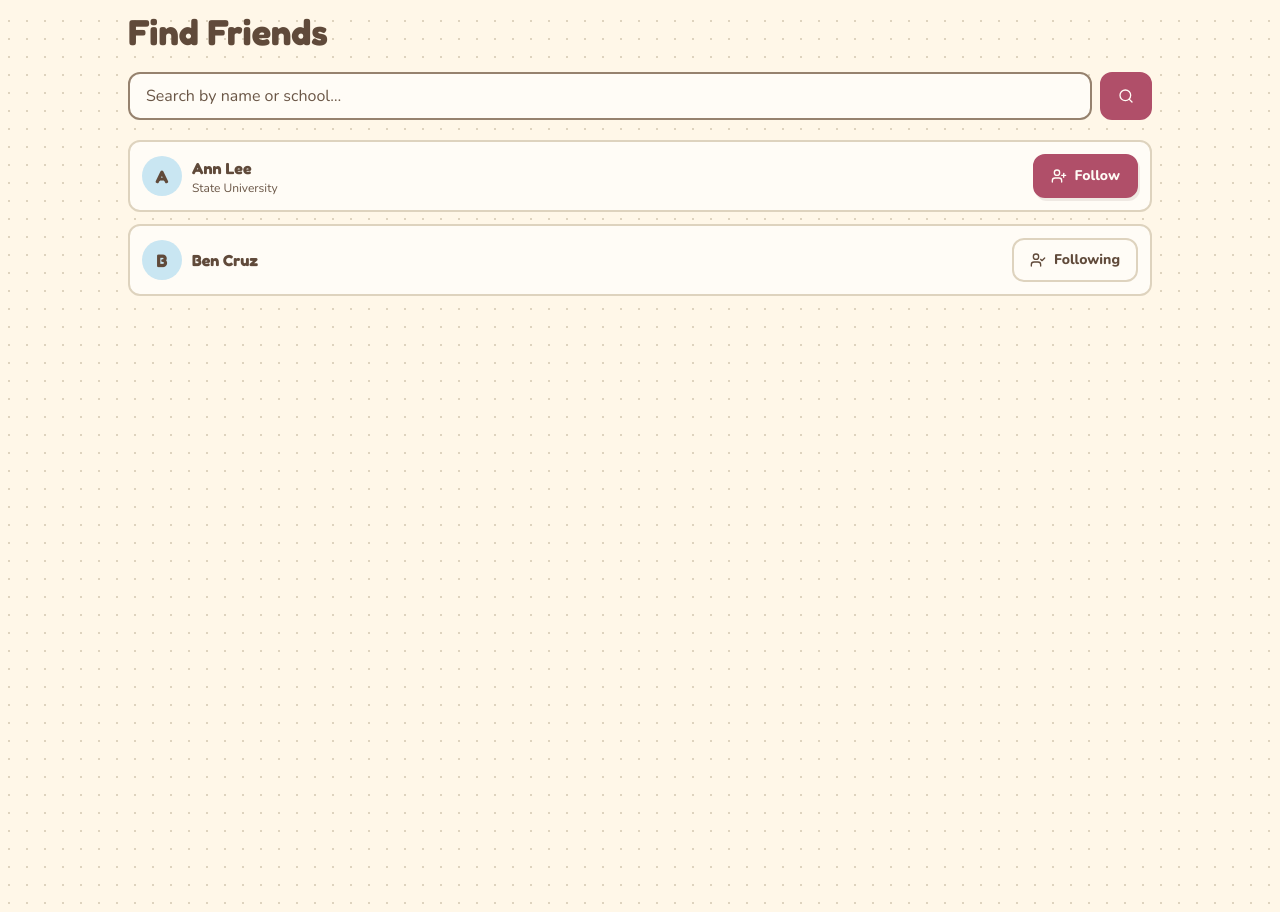
FindFriends › clears the query and resets the list with the X button
This screenshot has width=1280, height=912.
Check: the text "Ann Lee" is shown, box left=192, top=158, right=252, bottom=178
Type "ann" into the field named "Search friends" at (610, 96), box left=128, top=72, right=1092, bottom=120
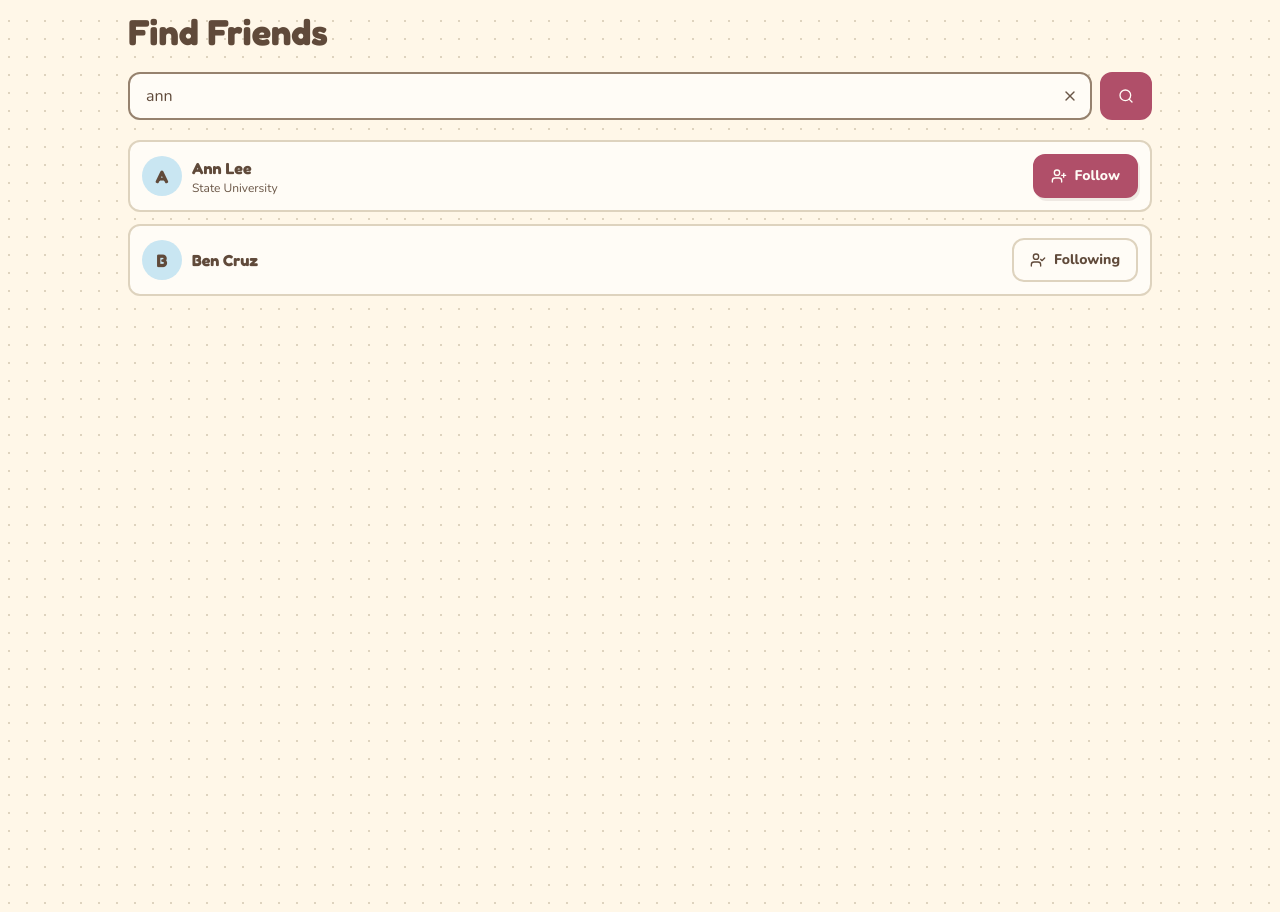
Check: the button named "Clear search" is shown
Click the button named "Clear search" at (1070, 96), box left=1056, top=82, right=1084, bottom=110
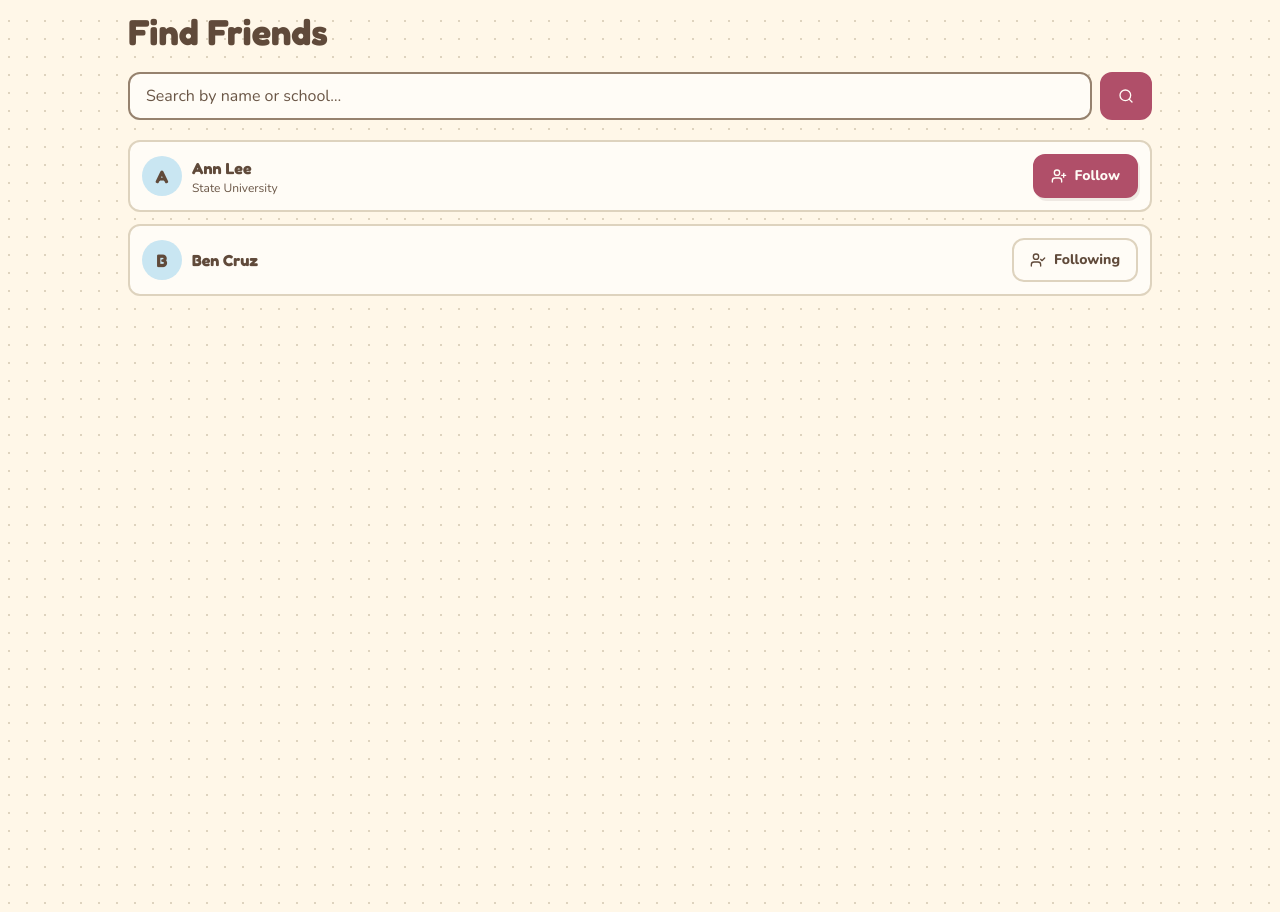
Check: the field named "Search friends" is empty, box left=128, top=72, right=1092, bottom=120
